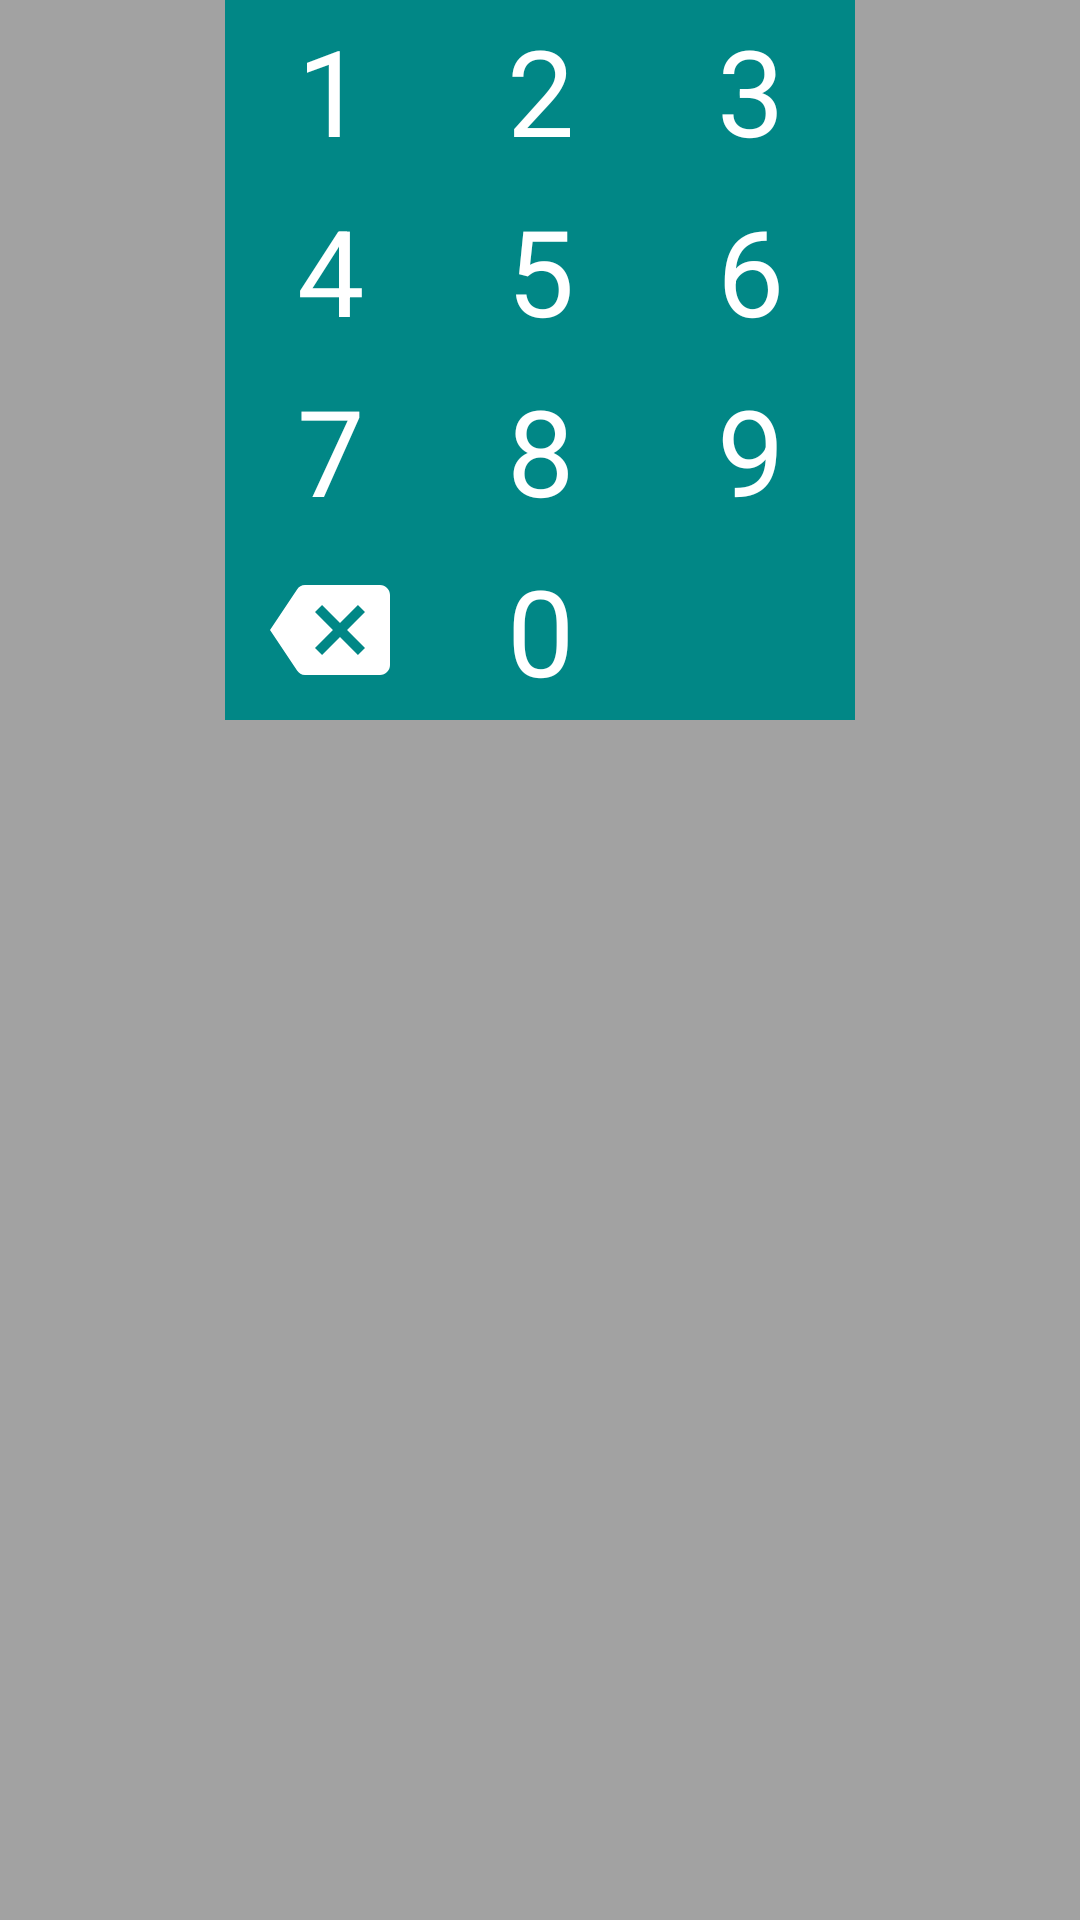

Icons on this 1080x1920 Android screen, each with its box as detection(x1, y1, x2, y2):
backspace: detection(270, 585, 390, 675)
